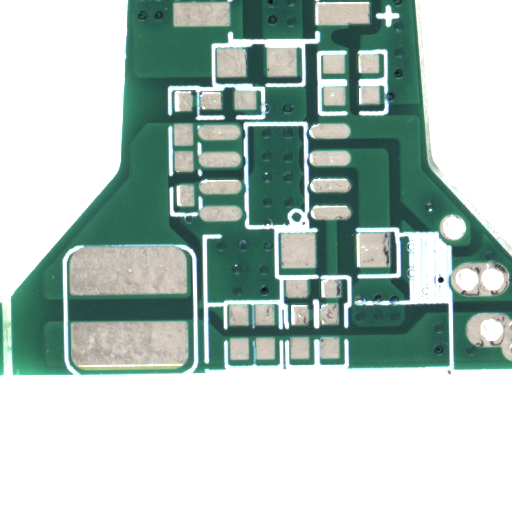Mouse_bite: (341, 38, 360, 57)
